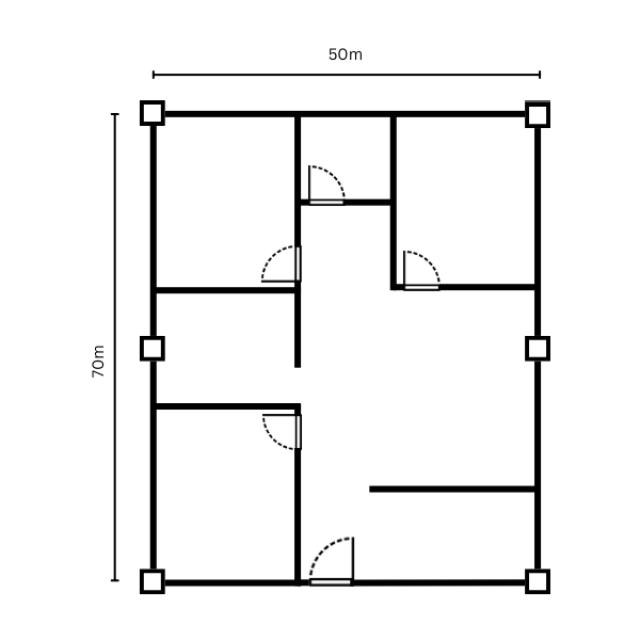column: (522, 99, 553, 133), (136, 333, 167, 364), (136, 566, 168, 595), (523, 566, 553, 596), (523, 333, 552, 364), (138, 99, 168, 127)
